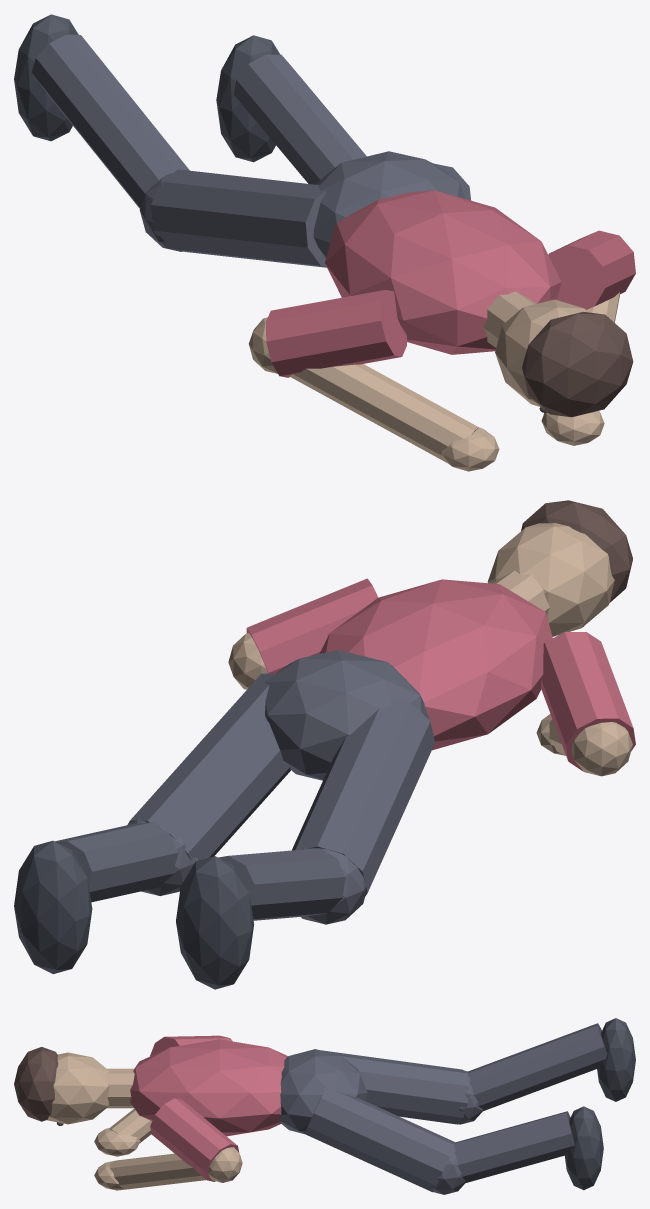
The picture shows the model from 3 angles, top to bottom: view 1: azimuth 30°, elevation 25°; view 2: azimuth 150°, elevation 25°; view 3: azimuth 270°, elevation 25°; orthographic projection. The views are drawn at different scales.
Parts seen in each view (by area): view 1: world; view 2: world; view 3: world.
Boxes of the visible parts, x1,y1,x2,y2 form: world: [14, 14, 635, 471]; world: [14, 500, 635, 989]; world: [14, 1018, 635, 1194].
Bounding box in the file's own units: 0.93 × 0.4412 × 2.01.
